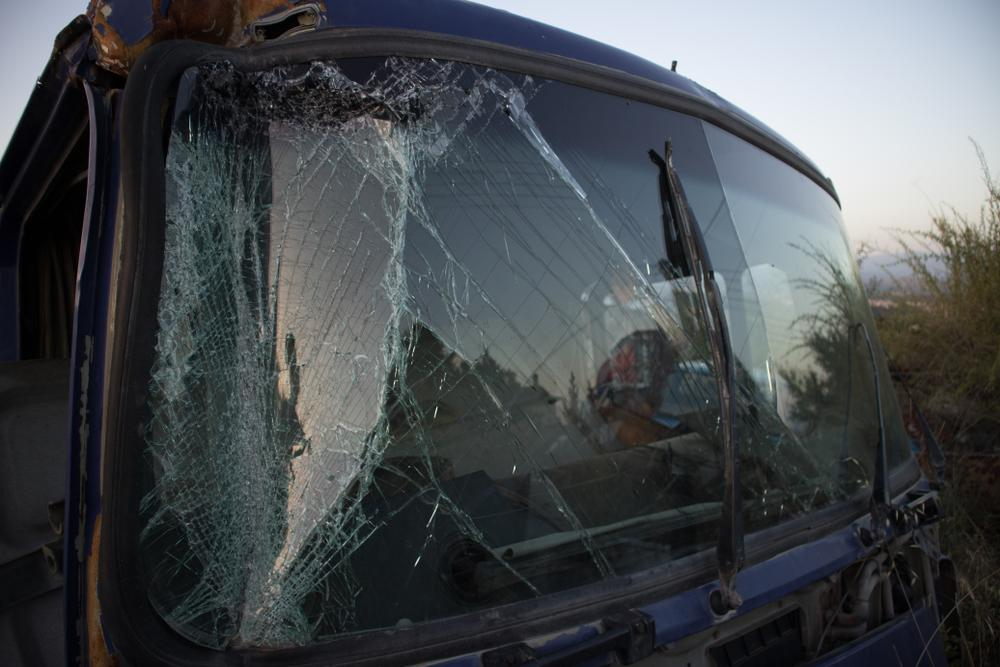glass shatter: (140, 55, 915, 650)
